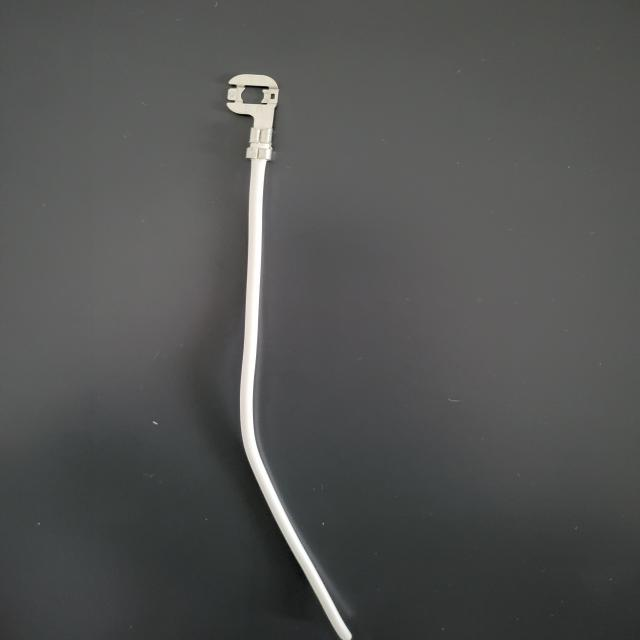defect: (200, 112, 302, 182)
